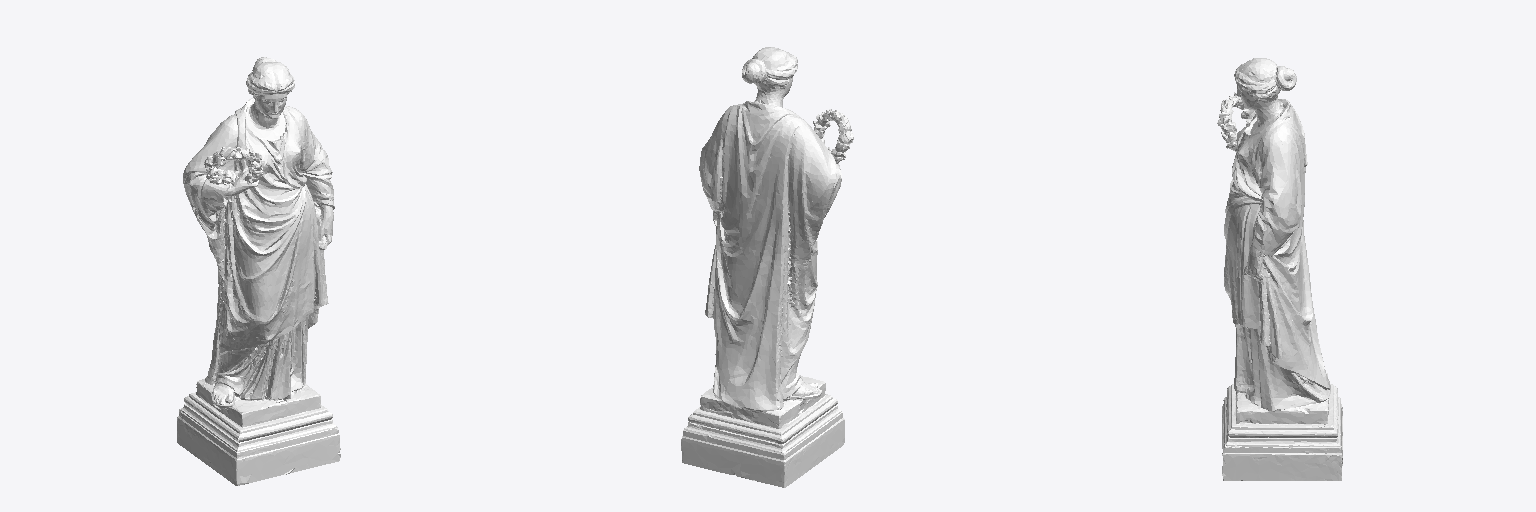
Rendered from statue.obj.
3 views of the same model, side by side, from view 1: azimuth 30°, elevation 25°; view 2: azimuth 150°, elevation 25°; view 3: azimuth 270°, elevation 25° (orthographic).
Visible parts, largest first — view 1: divka_dum_umeni_Untitled; view 2: divka_dum_umeni_Untitled; view 3: divka_dum_umeni_Untitled.
Part boxes in pixels (left/top/right/bottom): divka_dum_umeni_Untitled: left=177, top=57, right=340, bottom=485; divka_dum_umeni_Untitled: left=681, top=47, right=853, bottom=487; divka_dum_umeni_Untitled: left=1217, top=58, right=1342, bottom=480.
Bounding box in the file's own units: 1.11 × 2.99 × 0.8619.